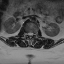CCS_normal: (29, 29, 31, 40)
LFS_stenosis: (33, 31, 35, 36)
LLS_normal: (31, 30, 33, 37)
RFS_normal: (26, 30, 27, 36)
RLS_normal: (27, 30, 29, 37)
